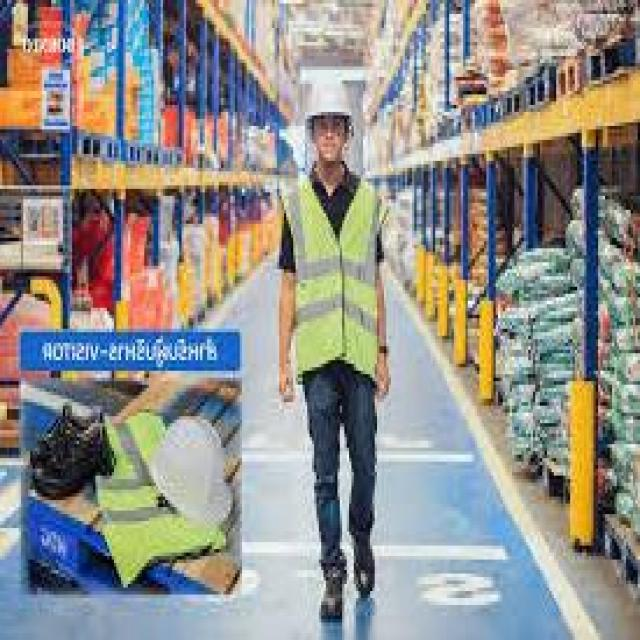Reflective-Jacket: (277, 171, 393, 392)
Safety-Helmet: (298, 66, 354, 126)
